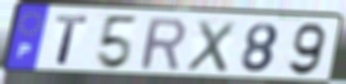5: (92, 15, 141, 71)
8: (239, 22, 280, 74)
9: (285, 22, 328, 77)
R: (138, 16, 188, 72)
T: (54, 13, 91, 68)
X: (183, 18, 238, 75)
